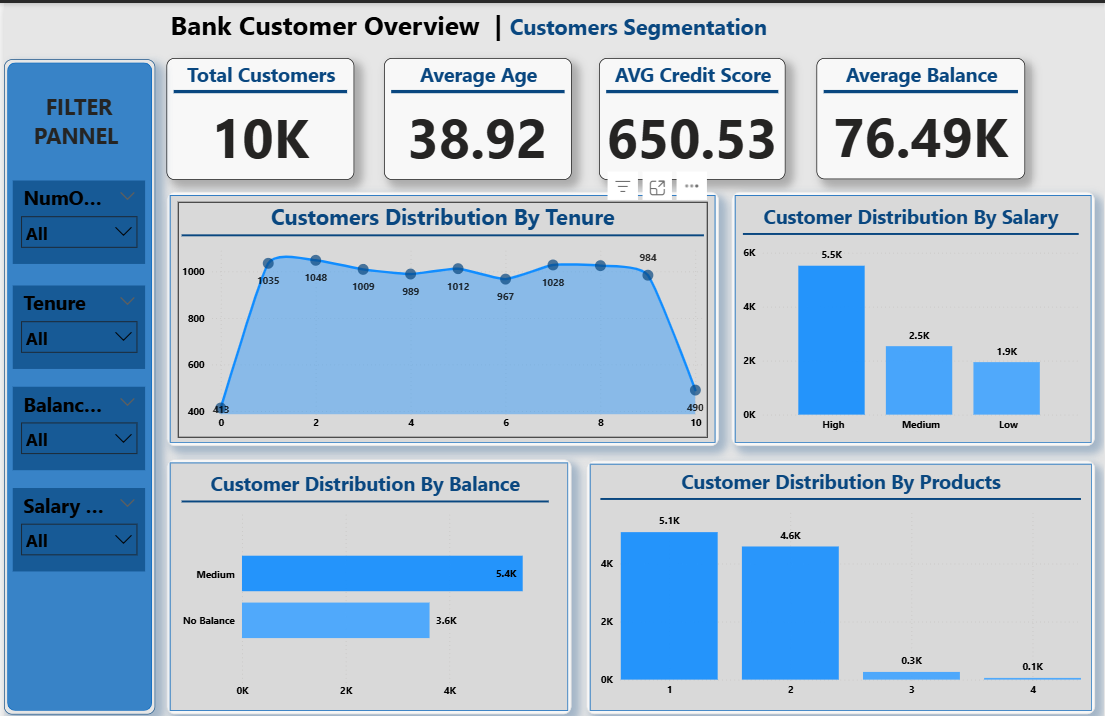

This screenshot's page, from the dashboard's own definition file:
{"tool":"powerbi","page":{"name":"Customer Segmentation","canvas":[1350,900],"ordinal":1},"visuals":[{"type":"textbox","box":[199.4,0,759.2,55.2],"z":0},{"type":"card","title":"Total Customers","fields":{"Values":["Churn_Modelling (1).Total Customers"]},"box":[199,66.8,230.4,150],"z":1000},{"type":"card","title":"Average Age ","fields":{"Values":["Churn_Modelling (1).Average Age"]},"box":[466.3,66.8,230.4,150],"z":2000},{"type":"card","title":"AVG Credit Score","fields":{"Values":["Churn_Modelling (1).Average Credit Score"]},"box":[730.7,66.8,229,150],"z":3000},{"type":"card","title":"Average  Balance ","fields":{"Values":["Churn_Modelling (1).Average Balance"]},"box":[996.9,67.5,256.1,148.8],"z":4000},{"type":"shape","box":[199,231.8,677.6,312.2],"z":5000},{"type":"shape","box":[893,231.8,445.8,312.2],"z":6000},{"type":"shape","box":[199.4,559.8,496.9,312.9],"z":7000},{"type":"shape","box":[714.7,561.4,624.2,311.4],"z":8000},{"type":"lineChart","title":"Customers Distribution By Tenure ","fields":{"Category":["Churn_Modelling (1).Tenure"],"Y":["Churn_Modelling (1).Total Customers"]},"box":[213.2,243.9,650.3,289.9],"z":9000},{"type":"clusteredColumnChart","title":"Customer Distribution By Salary","fields":{"Y":["Churn_Modelling (1).Total Customers"],"Category":["Churn_Modelling (1).Salary Category"]},"box":[901.8,245.4,421.8,289.9],"z":10000},{"type":"clusteredBarChart","title":"Customer Distribution By Balance ","fields":{"Y":["Churn_Modelling (1).Total Customers"],"Category":["Churn_Modelling (1).Balance Category"]},"box":[213.2,573.6,460,289],"z":11000},{"type":"clusteredColumnChart","title":"Customer Distribution By Products","fields":{"Y":["Churn_Modelling (1).Total Customers"],"Category":["Churn_Modelling (1).NumOfProducts"]},"box":[727,570.6,599.7,289.9],"z":12000},{"type":"shape","box":[0,69,185.6,803.7],"z":13000},{"type":"slicer","fields":{"Values":["Churn_Modelling (1).NumOfProducts"]},"box":[10.7,217.8,162.6,102.8],"z":14000},{"type":"slicer","fields":{"Values":["Churn_Modelling (1).Tenure"]},"box":[10.7,346.6,162.6,102.8],"z":15000},{"type":"slicer","fields":{"Values":["Churn_Modelling (1).Balance Category"]},"box":[10.7,470.9,162.6,102.8],"z":16000},{"type":"slicer","fields":{"Values":["Churn_Modelling (1).Salary Category"]},"box":[10.7,595.1,162.6,102.8],"z":17000},{"type":"textbox","box":[24.5,104.3,135,84.4],"z":18000}]}

Visuals, with their boxes in screenshot pixels (x1, y1, x2, y2), scaled from the page's 1350x900 canvas onto the 1105x716 screenshot:
textbox: (163,0,785,44)
"Total Customers" card: (163,53,351,172)
"Average Age " card: (382,53,570,172)
"AVG Credit Score" card: (598,53,786,172)
"Average  Balance " card: (816,54,1026,172)
shape: (163,184,718,433)
shape: (731,184,1096,433)
shape: (163,445,570,694)
shape: (585,447,1096,694)
"Customers Distribution By Tenure " lineChart: (175,194,707,425)
"Customer Distribution By Salary" clusteredColumnChart: (738,195,1083,426)
"Customer Distribution By Balance " clusteredBarChart: (175,456,551,686)
"Customer Distribution By Products" clusteredColumnChart: (595,454,1086,685)
shape: (0,55,152,694)
slicer - Churn_Modelling (1).NumOfProducts: (9,173,142,255)
slicer - Churn_Modelling (1).Tenure: (9,276,142,358)
slicer - Churn_Modelling (1).Balance Category: (9,375,142,456)
slicer - Churn_Modelling (1).Salary Category: (9,473,142,555)
textbox: (20,83,131,150)
